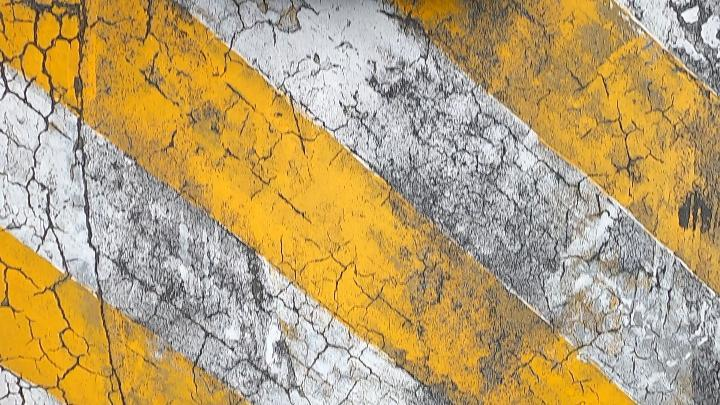Lane: (0, 0, 719, 404), (0, 0, 720, 400)
